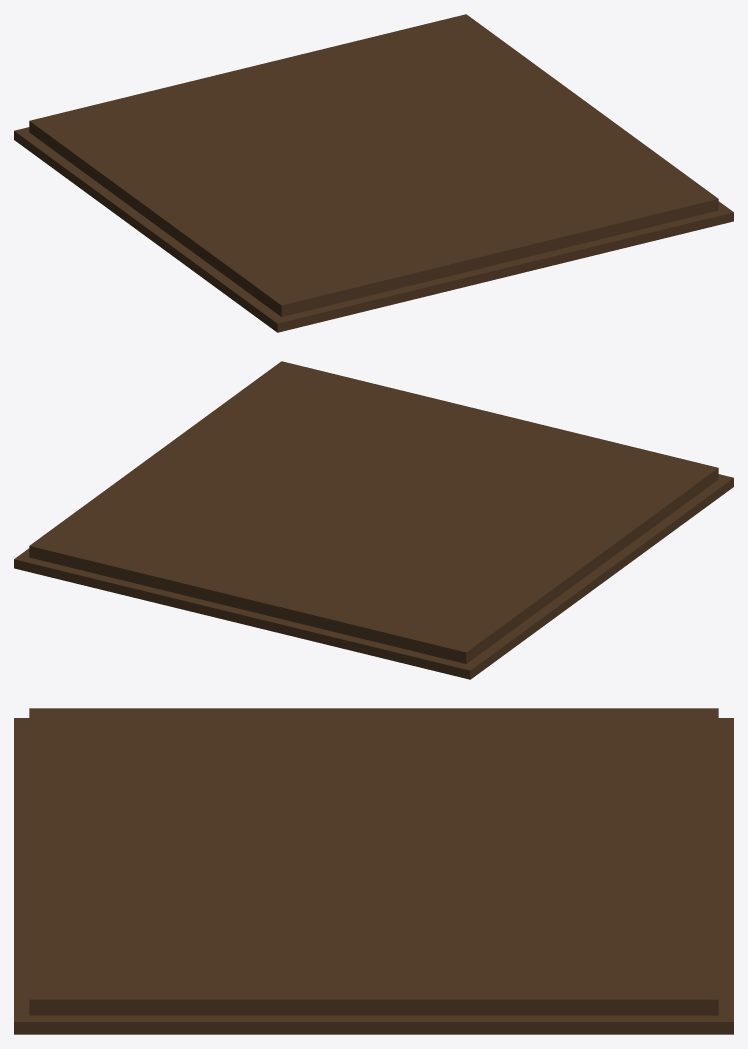
Rendered from BoardFrame.glb.
3 renders of one model, top to bottom at view 1: azimuth 30°, elevation 25°; view 2: azimuth 150°, elevation 25°; view 3: azimuth 270°, elevation 25°, orthographic. The views are drawn at different scales.
Parts seen in each view (by area): view 1: BoardFrame; view 2: BoardFrame; view 3: BoardFrame.
Part boxes in pixels (x1,y1,x2,y2): BoardFrame: (14, 14, 733, 332); BoardFrame: (14, 361, 733, 679); BoardFrame: (14, 708, 733, 1034).
Bounding box in the file's own units: 9.4 × 0.41 × 9.4.
